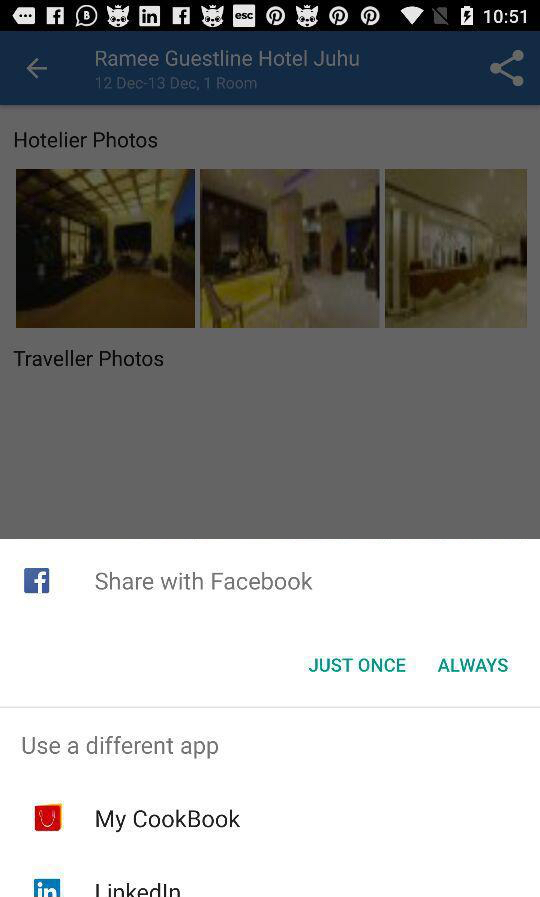Icon: (489, 49, 525, 87), (24, 568, 51, 595), (27, 58, 48, 80)
Image: (17, 169, 196, 328), (200, 171, 379, 329), (385, 169, 527, 329), (34, 804, 64, 832), (34, 878, 62, 897)
Modal: (1, 539, 540, 897)
Text: (22, 735, 220, 760), (96, 50, 360, 68), (95, 571, 314, 592), (96, 808, 241, 833), (14, 350, 164, 368), (15, 131, 158, 149), (96, 77, 258, 91), (308, 657, 407, 674), (96, 882, 181, 897), (437, 657, 509, 673)
UpperTaskBar: (1, 1, 540, 33)
